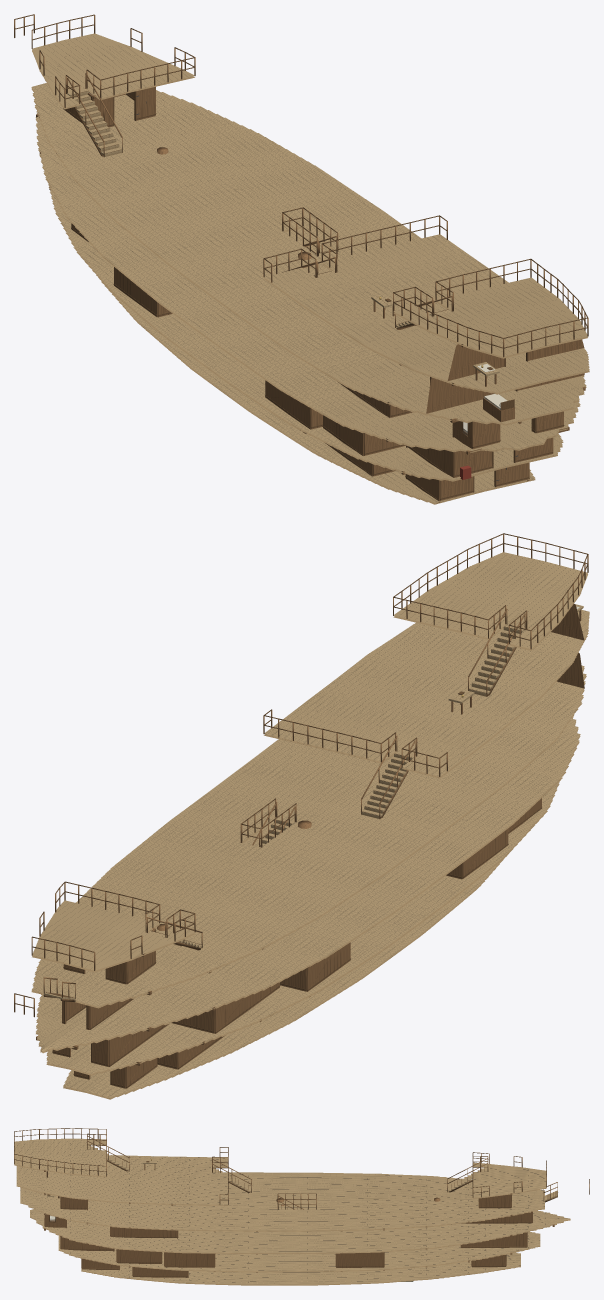
File: bellona-interior.glb
3 views of the same model, one above another, from view 1: azimuth 30°, elevation 25°; view 2: azimuth 150°, elevation 25°; view 3: azimuth 270°, elevation 25° (orthographic). The views are drawn at different scales.
Visible parts, largest first — view 1: Bellona_interiors__Deck_pale_oak, Bellona_interiors__Warm_oak, Bellona_interiors__Deck_variation, Bellona_interiors__Worn_dark_trim, Bellona_interiors__Tar_seams; view 2: Bellona_interiors__Deck_pale_oak, Bellona_interiors__Warm_oak, Bellona_interiors__Deck_variation, Bellona_interiors__Worn_dark_trim, Bellona_interiors__Tar_seams; view 3: Bellona_interiors__Deck_pale_oak, Bellona_interiors__Warm_oak, Bellona_interiors__Deck_variation, Bellona_interiors__Worn_dark_trim, Bellona_interiors__Tar_seams.
Boxes of the visible parts, left/top/right/bottom form: Bellona_interiors__Deck_pale_oak: left=31, top=33, right=589, bottom=502; Bellona_interiors__Warm_oak: left=14, top=14, right=588, bottom=502; Bellona_interiors__Deck_variation: left=31, top=50, right=589, bottom=504; Bellona_interiors__Worn_dark_trim: left=14, top=14, right=588, bottom=500; Bellona_interiors__Tar_seams: left=48, top=39, right=571, bottom=488; Bellona_interiors__Deck_pale_oak: left=31, top=552, right=589, bottom=1097; Bellona_interiors__Warm_oak: left=14, top=534, right=588, bottom=1088; Bellona_interiors__Deck_variation: left=31, top=574, right=589, bottom=1099; Bellona_interiors__Worn_dark_trim: left=14, top=533, right=588, bottom=1087; Bellona_interiors__Tar_seams: left=36, top=556, right=585, bottom=1082; Bellona_interiors__Deck_pale_oak: left=14, top=1138, right=570, bottom=1284; Bellona_interiors__Warm_oak: left=14, top=1128, right=589, bottom=1277; Bellona_interiors__Deck_variation: left=14, top=1144, right=570, bottom=1285; Bellona_interiors__Worn_dark_trim: left=14, top=1128, right=589, bottom=1276; Bellona_interiors__Tar_seams: left=17, top=1140, right=558, bottom=1282.
Bounding box in the file's own units: 14.02 × 14.07 × 54.37.
Materials: 13 (4 with a texture image).
